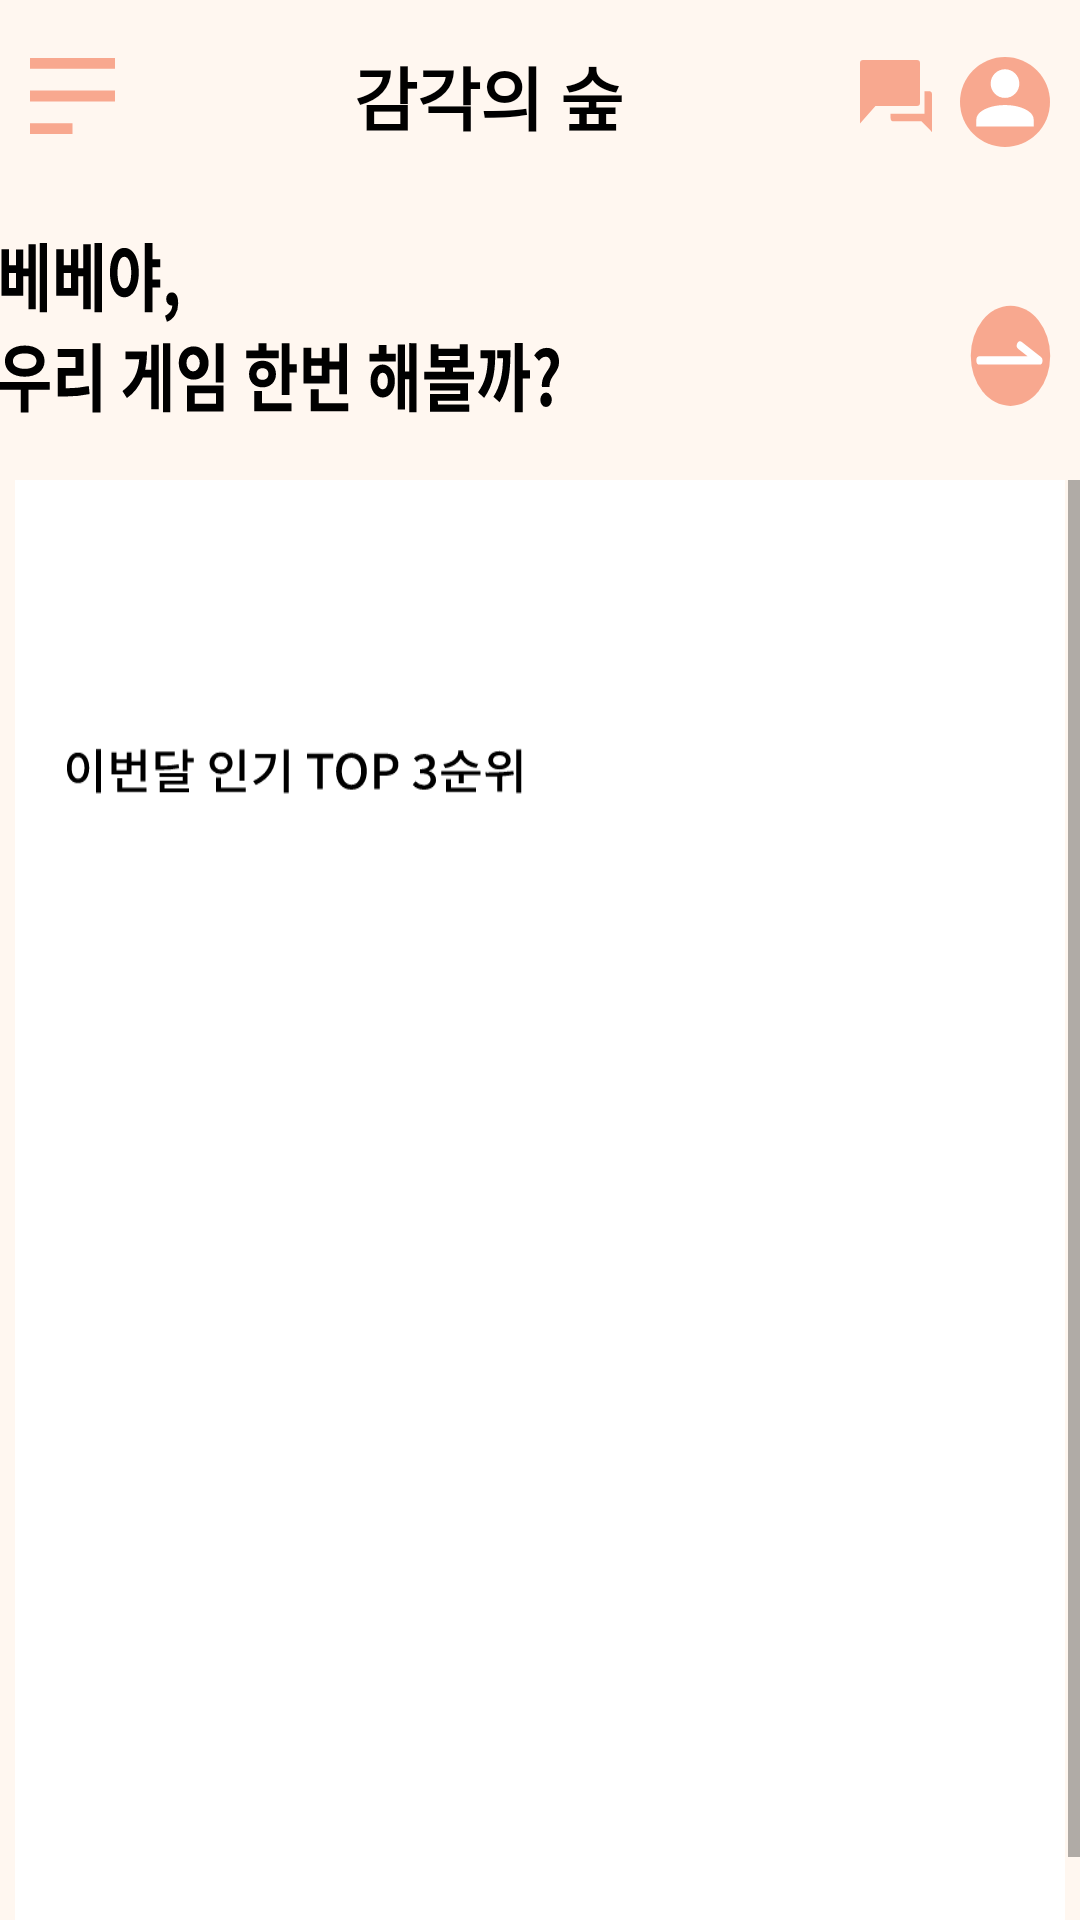

Screen size 1080×1920. Icon name, then its center in pixels as (x=x, y=y):
comunuty: (x=896, y=96)
profile: (x=1005, y=102)
